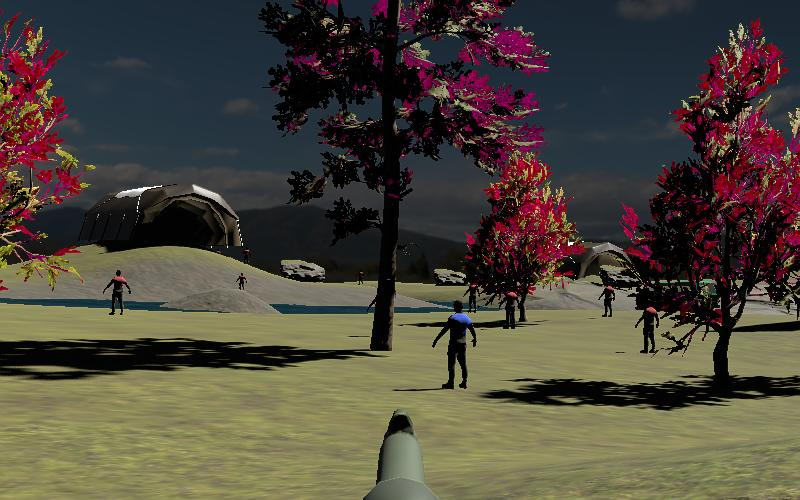Human: (431, 299, 478, 390), (101, 267, 133, 317), (235, 271, 249, 292)
